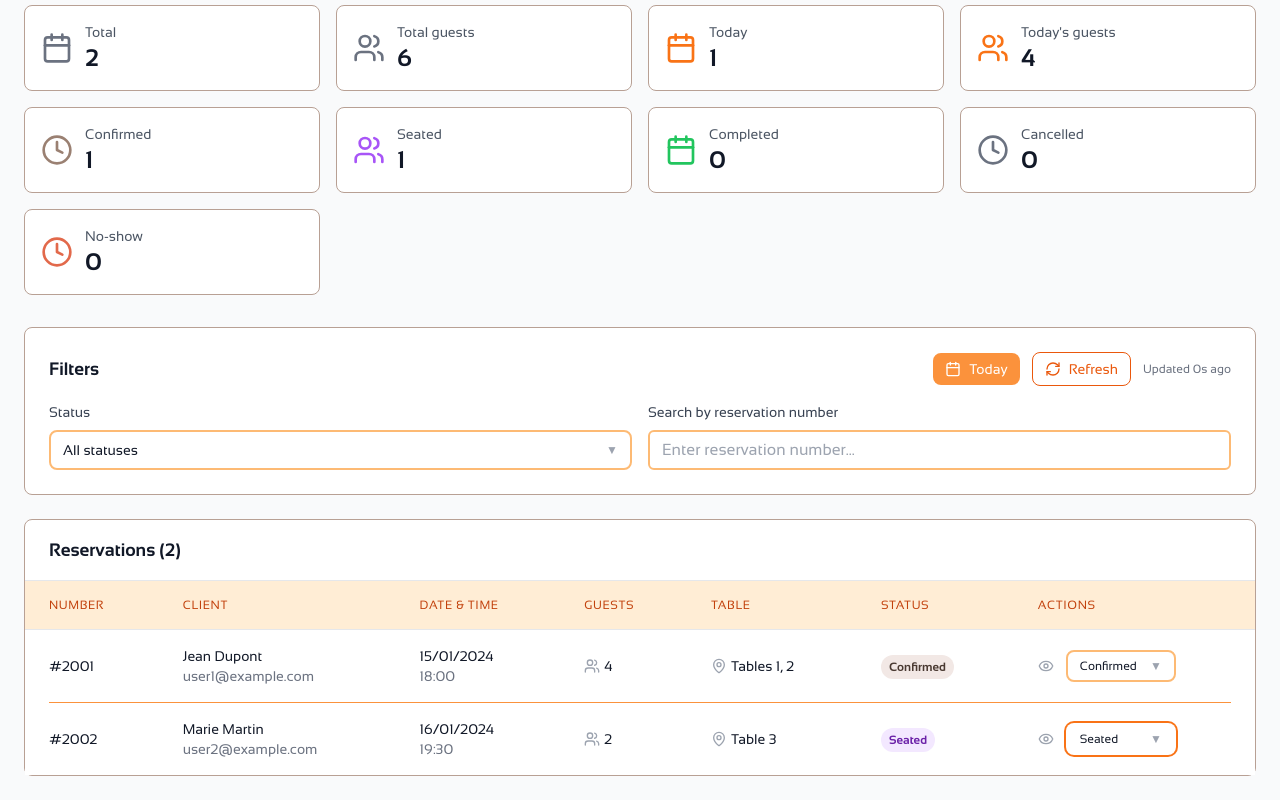
Test: ReservationsManagement Component › should open reservation details modal when eye icon is clicked
(page scrolled)
Expected: the text "Jean Dupont" is shown, [183,648,262,664]
What coordinates should you click on to do the following:
click the button titled "View details" in the row of "2001"
I would click on:
 (1046, 666)
Its box is [1038,658,1054,674].
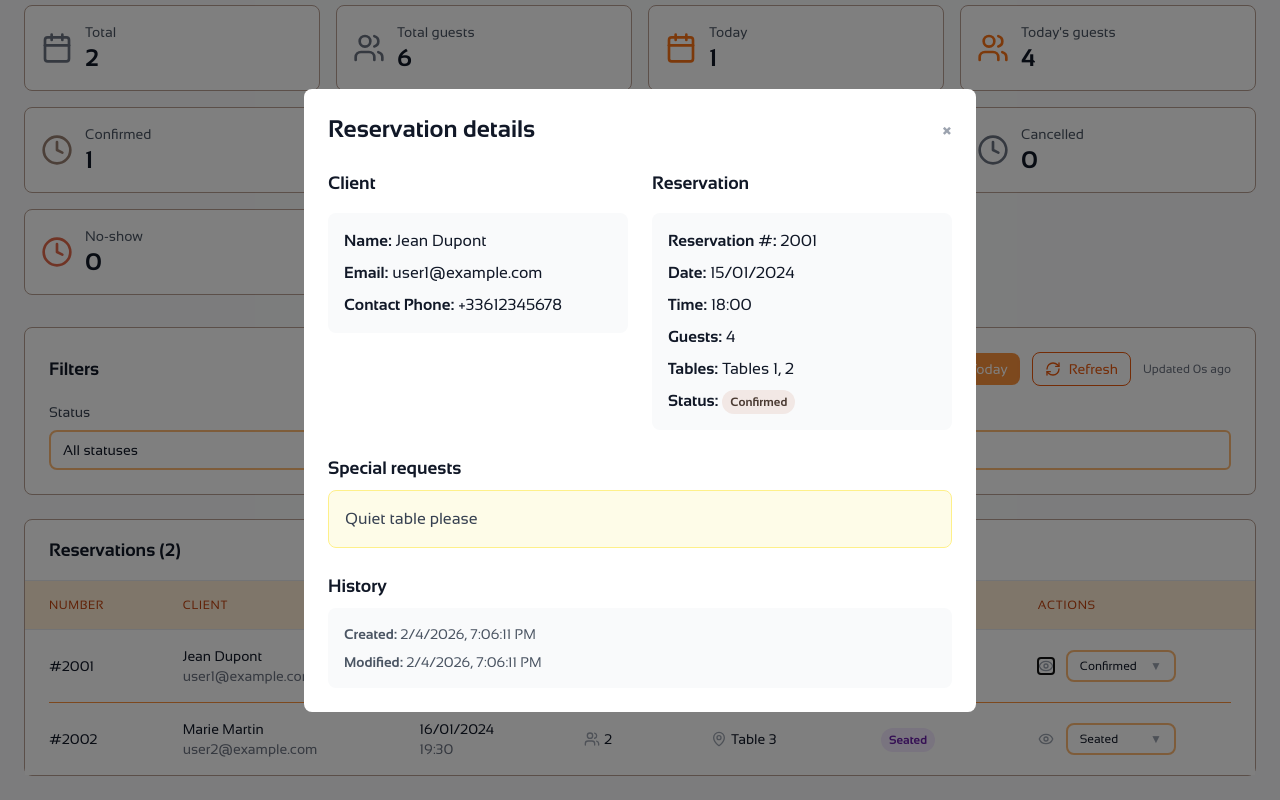
Now the heading "Reservation details" is shown, box [328,112,535,144]
